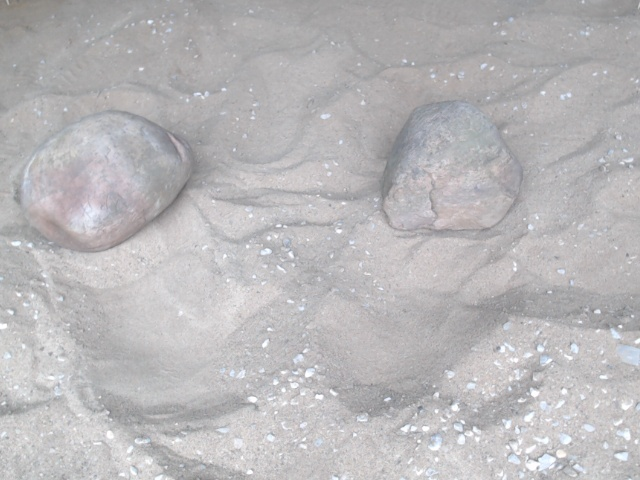rock: (6, 103, 199, 257), (376, 96, 525, 240)
